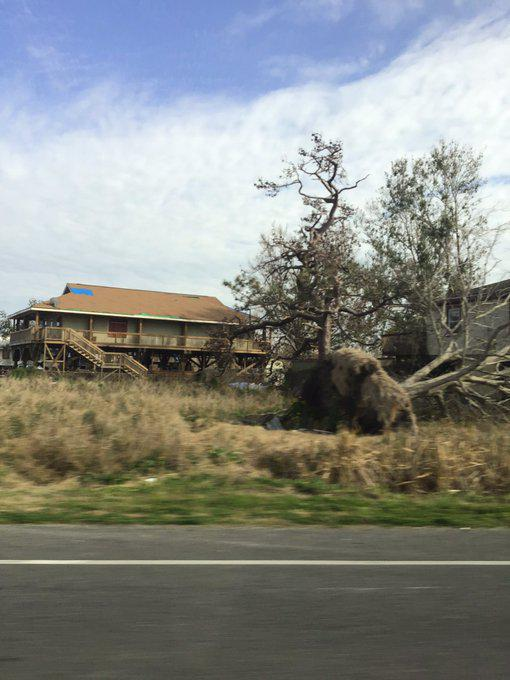minor: (0, 263, 283, 413)
